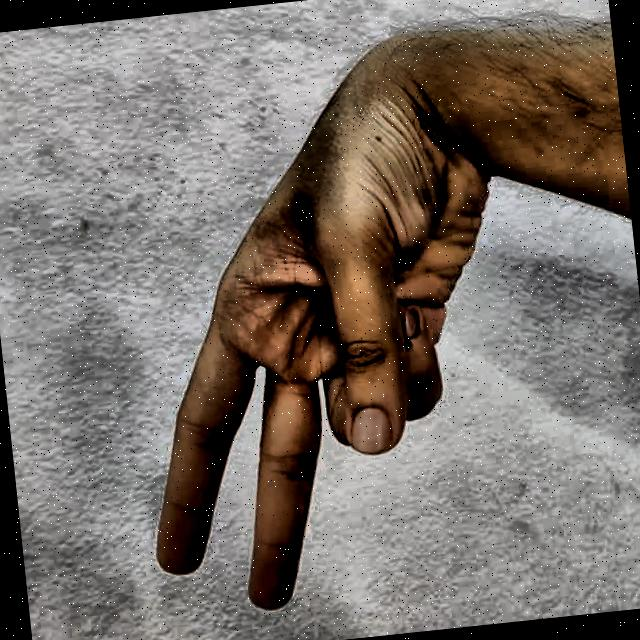Pa: (93, 27, 550, 640)
